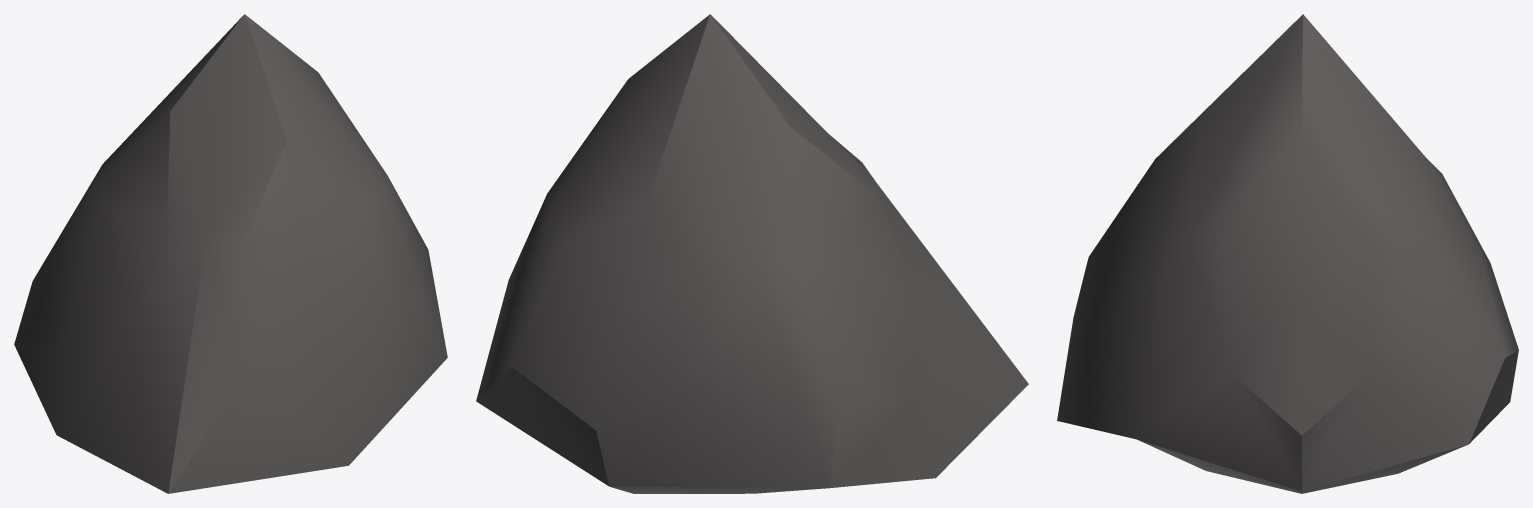
The model's file is Rock0.obj.
3 renders of one model, left to right at view 1: azimuth 30°, elevation 25°; view 2: azimuth 150°, elevation 25°; view 3: azimuth 270°, elevation 25°, orthographic. The views are drawn at different scales.
Visible parts, largest first — view 1: rock; view 2: rock; view 3: rock.
Boxes of the visible parts, x1,y1,x2,y2 form: rock: (14,14,447,493); rock: (476,14,1028,493); rock: (1057,14,1518,493).
Size of the model in its own units: 9.06 by 9.17 by 8.96.
1 material, 1 textured.
